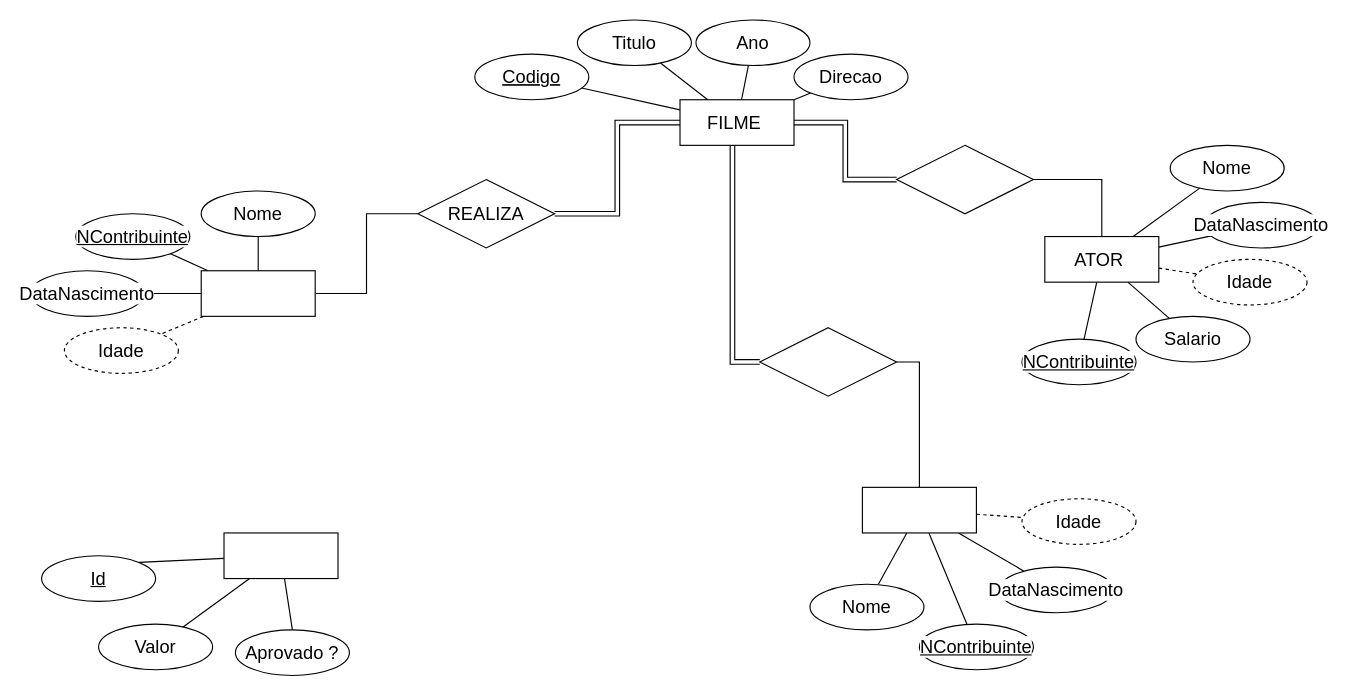
Some shapes in this 1347 by 695 pixel diagram are drawn without their labels. Here are the shapes that lost their labels. From the top down, the centre of each, then its label:
At (964,179): "ENTRA_EM".
At (257,293): "REALIZADOR".
At (828,361): "PRODUTOR_DE".
At (918,509): "PRODUTOR".
At (280,555): "ORCAMENTO".
